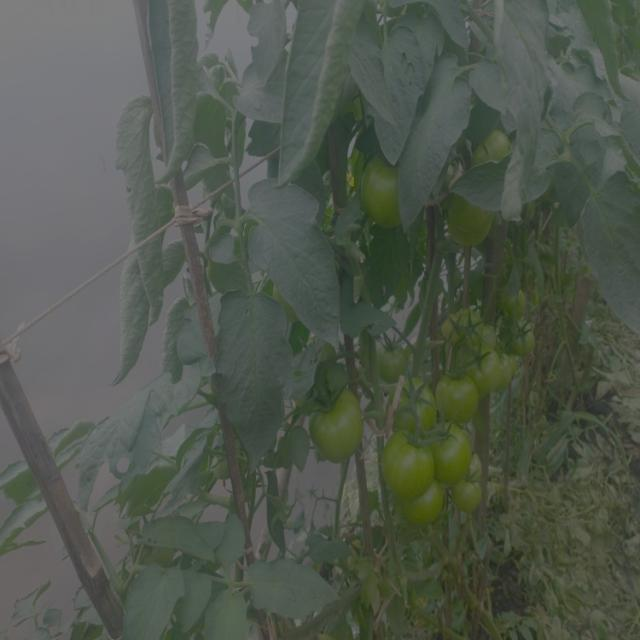tomato: (311, 391, 370, 466), (358, 148, 406, 232), (381, 429, 436, 494), (446, 196, 497, 252), (437, 369, 484, 418), (472, 128, 515, 172), (375, 333, 410, 386), (438, 425, 475, 474), (397, 493, 442, 529), (399, 378, 436, 418), (470, 353, 509, 389), (453, 480, 489, 518), (508, 319, 538, 361), (209, 449, 239, 486), (464, 309, 494, 343), (501, 281, 533, 312), (440, 314, 464, 344)
